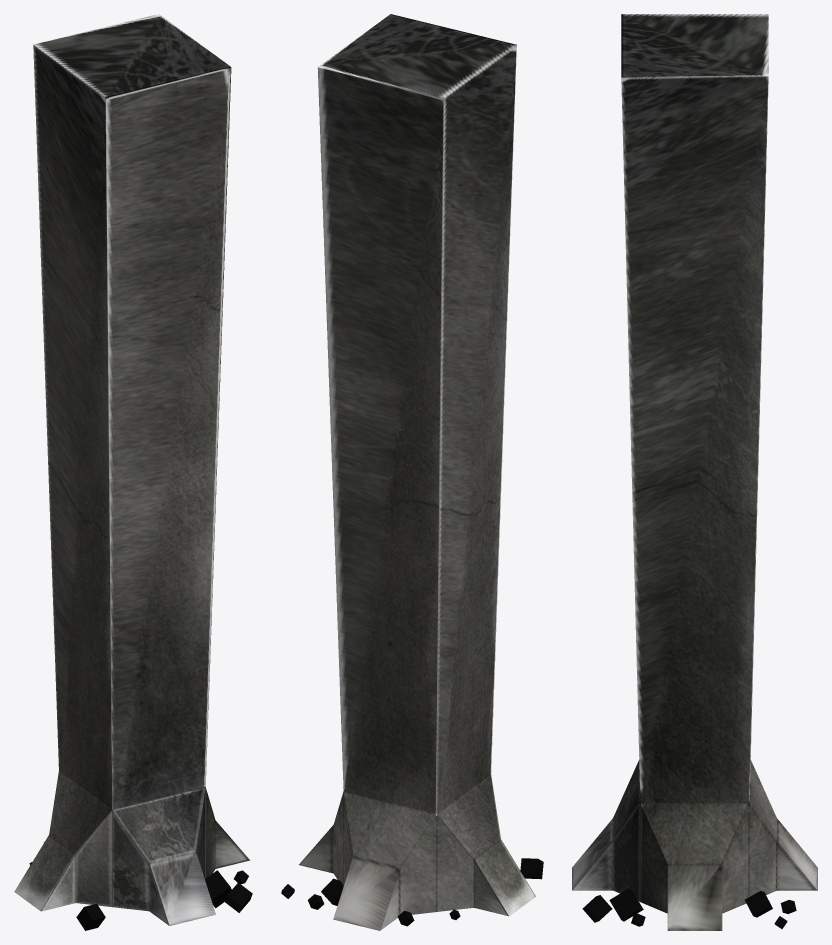
Rendered from wide_2.obj.
3 views of the same model, side by side, from view 1: azimuth 30°, elevation 25°; view 2: azimuth 150°, elevation 25°; view 3: azimuth 270°, elevation 25° (orthographic).
Parts seen in each view (by area): view 1: Cube_Cube.001; view 2: Cube_Cube.001; view 3: Cube_Cube.001.
Boxes of the visible parts, x1,y1,x2,y2 form: Cube_Cube.001: (14,14,252,930); Cube_Cube.001: (281,14,543,930); Cube_Cube.001: (572,14,817,930).
Bounding box in the file's own units: 4.5 × 17.23 × 4.5.
2 materials, 2 textured.
